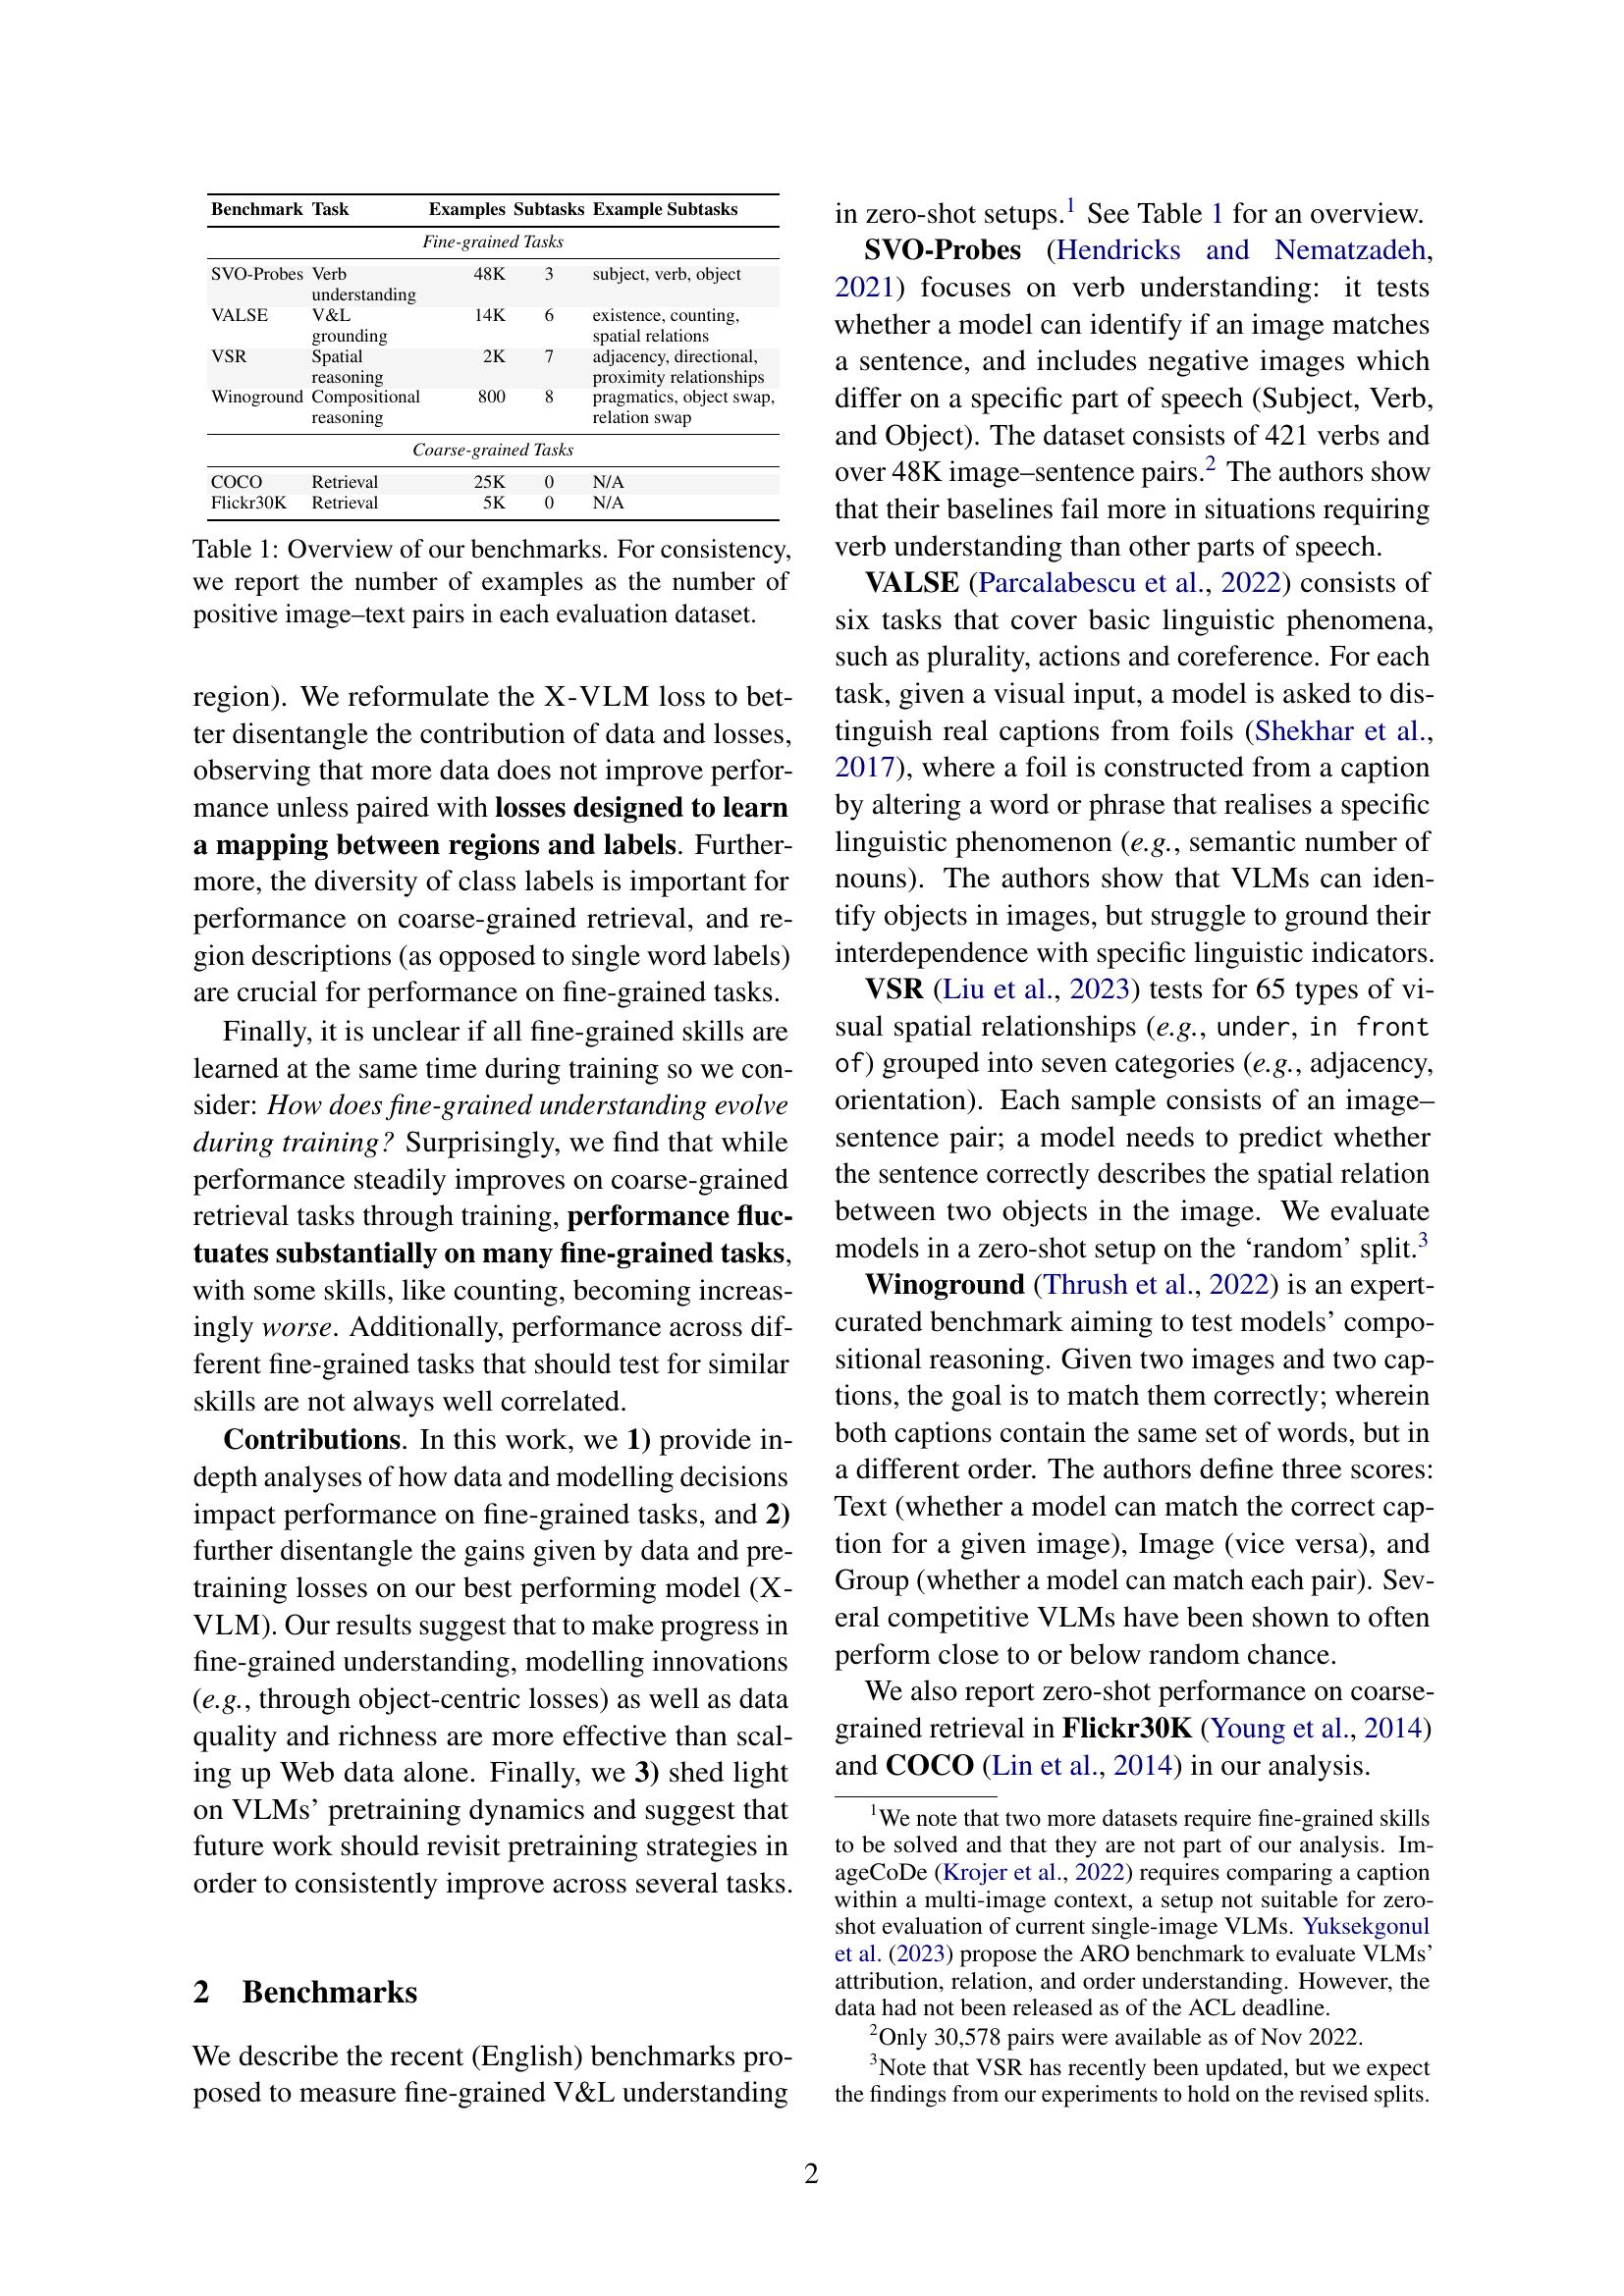table: (185, 184, 796, 638)
text: (823, 975, 1443, 1790), (823, 190, 1443, 973), (181, 675, 800, 1423), (181, 1423, 800, 2119)
